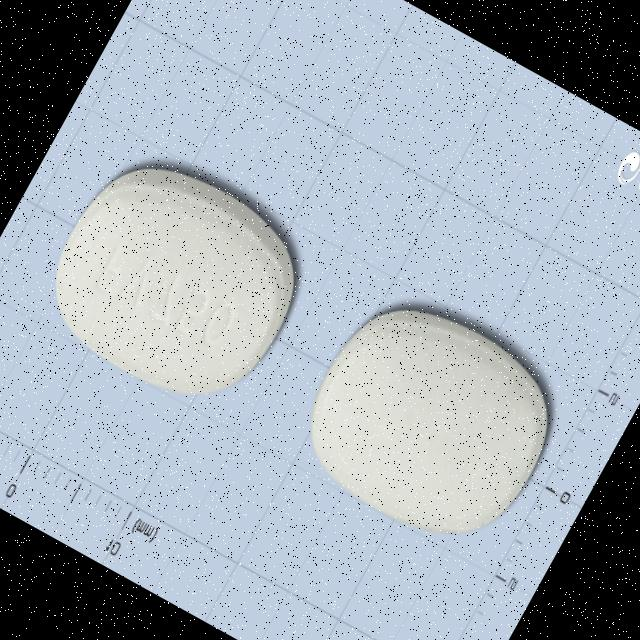Famvir: (24, 135, 326, 428), (280, 278, 580, 570)
